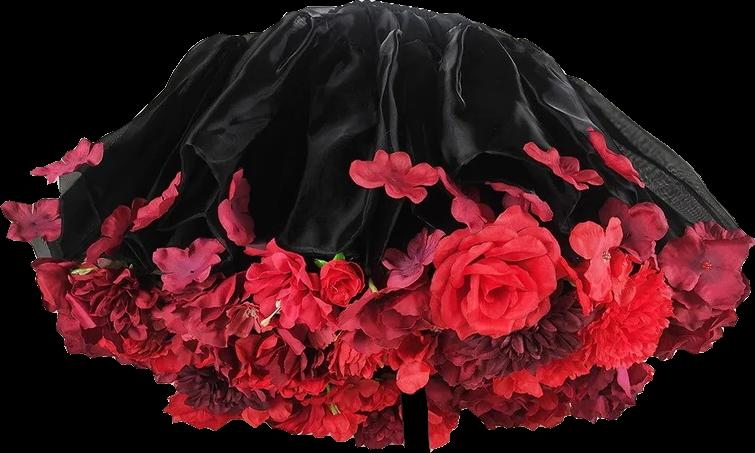Hemline: (4, 211, 754, 452)
Waistline: (234, 0, 490, 38)
